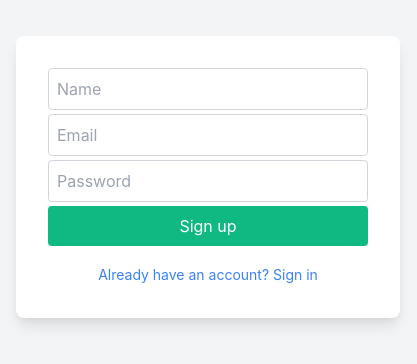
Test case: Signup Component › displays server error on signup failure
This screenshot has width=417, height=364.
Type "John Doe" into the field with placeholder "Name". click: {"x": 208, "y": 89}
box: top-left (48, 68), bottom-right (368, 110)
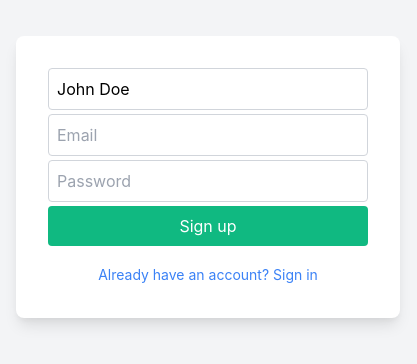
Type "john@example.com" into the field with placeholder "Email". click: {"x": 208, "y": 135}
box: top-left (48, 114), bottom-right (368, 156)
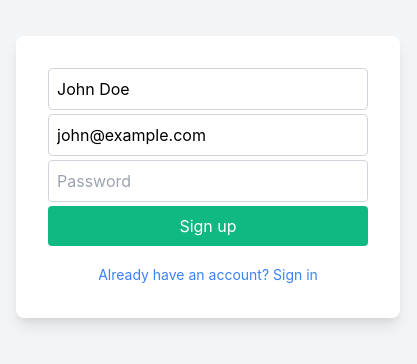
Type "Password123!" into the password field with placeholder "Password". click: {"x": 208, "y": 181}
box: top-left (48, 160), bottom-right (368, 202)
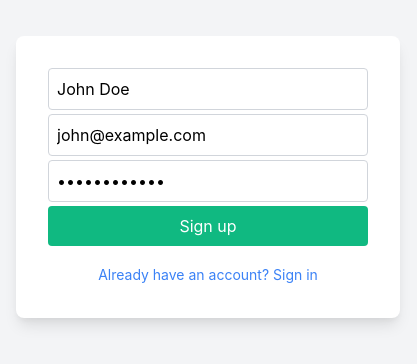
Click the button "Sign up". click: {"x": 208, "y": 226}
box: top-left (48, 206), bottom-right (368, 246)
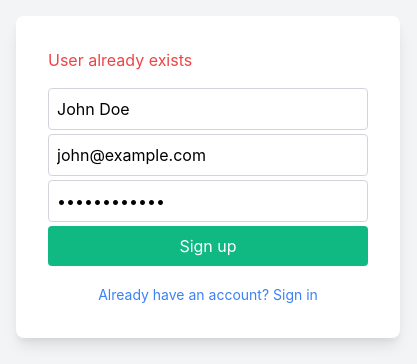
Expected: the text "User already exists" is shown, top-left (48, 50), bottom-right (192, 70)
